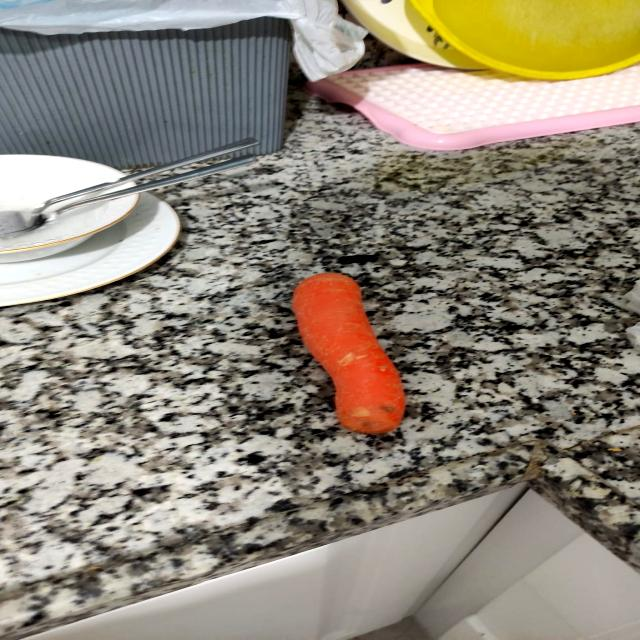carrot: (261, 256, 448, 445)
